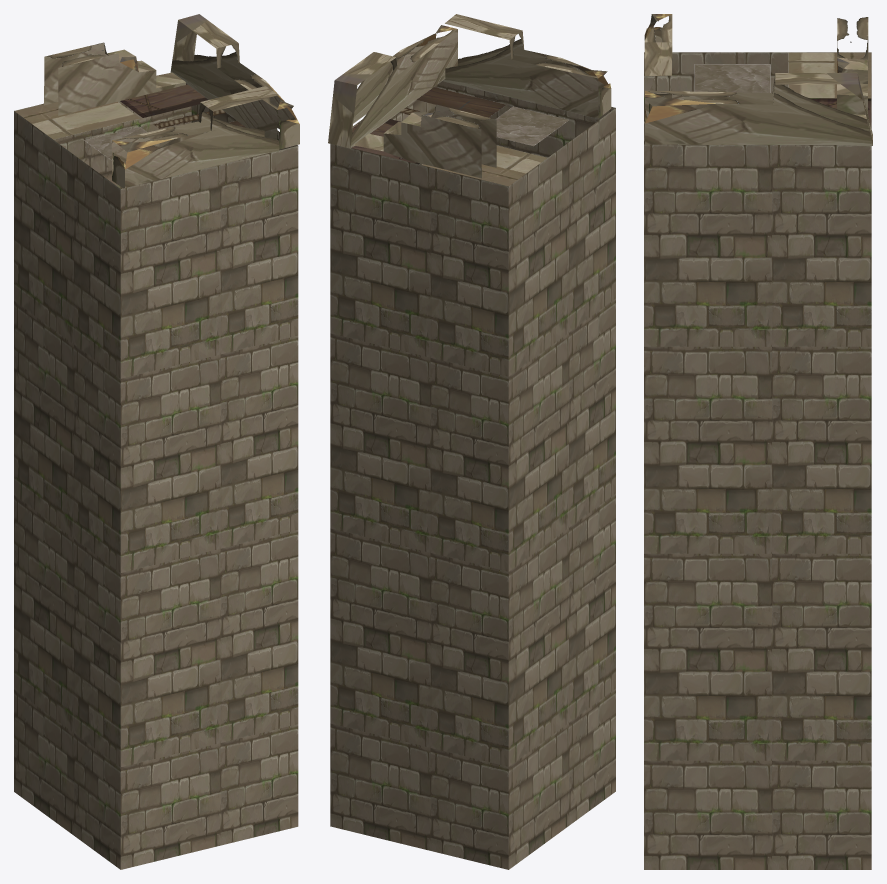
The model's file is TaiZi05.FBX.
3 renders of one model, left to right at view 1: azimuth 30°, elevation 25°; view 2: azimuth 150°, elevation 25°; view 3: azimuth 270°, elevation 25°, orthographic. The views are drawn at different scales.
Visible parts, largest first — view 1: Object801126871, Object801126806, Object801126808; view 2: Object801126871, Object801126806, Object801126808; view 3: Object801126871, Object801126806, Object801126808.
Boxes of the visible parts, x1,y1,x2,y2 form: Object801126871: (14, 103, 298, 869); Object801126806: (44, 20, 299, 188); Object801126808: (15, 14, 299, 169); Object801126871: (330, 80, 615, 869); Object801126806: (328, 14, 611, 178); Object801126808: (333, 25, 611, 186); Object801126871: (644, 52, 871, 869); Object801126806: (644, 14, 872, 145); Object801126808: (644, 14, 871, 126).
Bounding box in the file's own units: 221 × 868 × 229.
